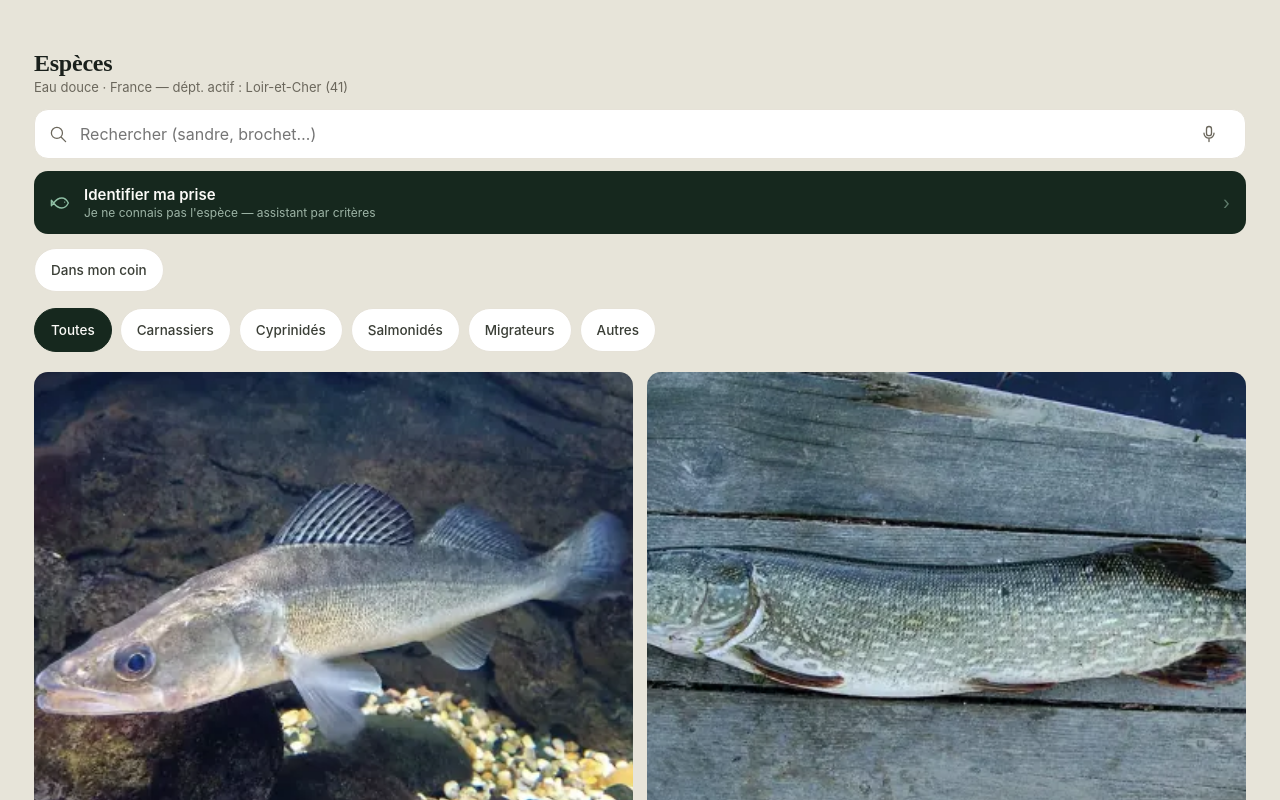
Especes — filtre du coin › garde le message de recherche sans résultat quand ce n'est pas le coin qui vide la grille
This screenshot has width=1280, height=800.
Type "zzzzz" into the field named "Rechercher une espèce". click: (628,134)
box: [78,110,1177,158]
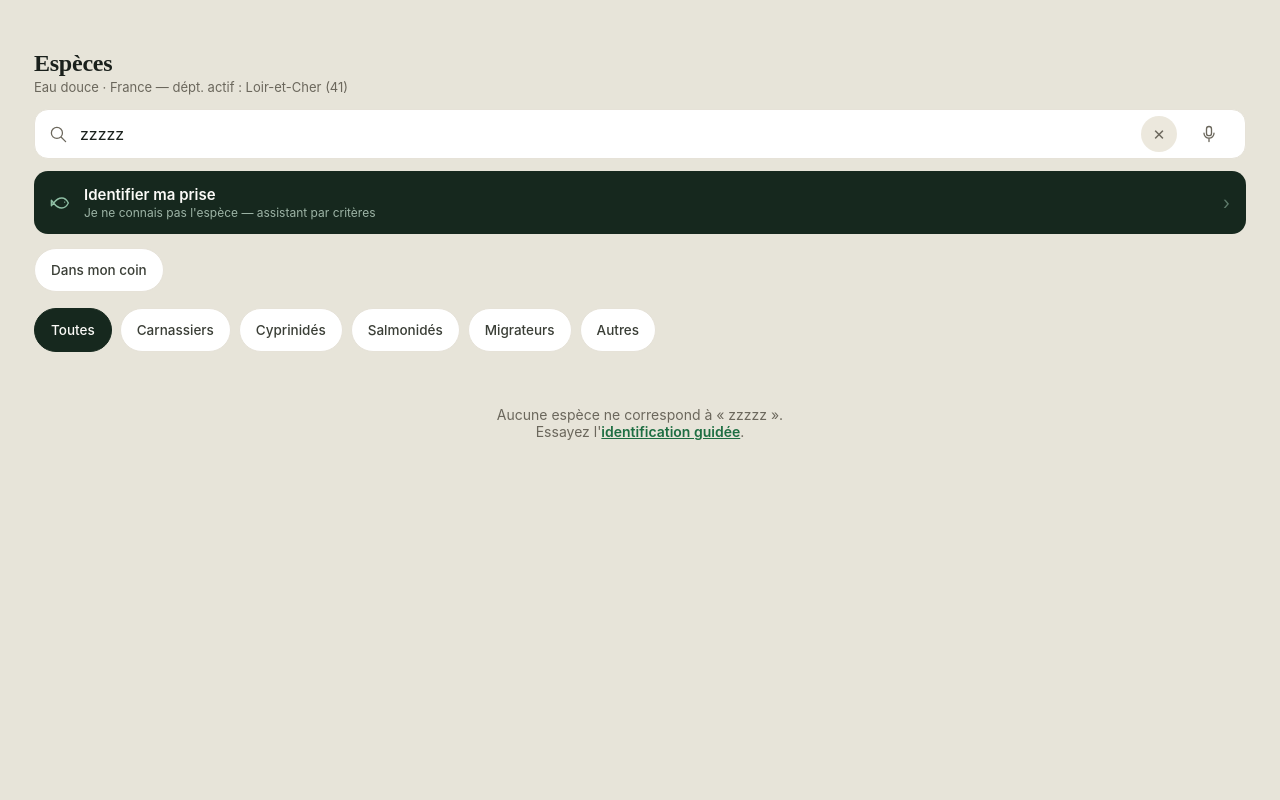
expect the text "Aucune espèce ne correspond à « zzzzz »" is shown: met, box [497,406,783,440]
